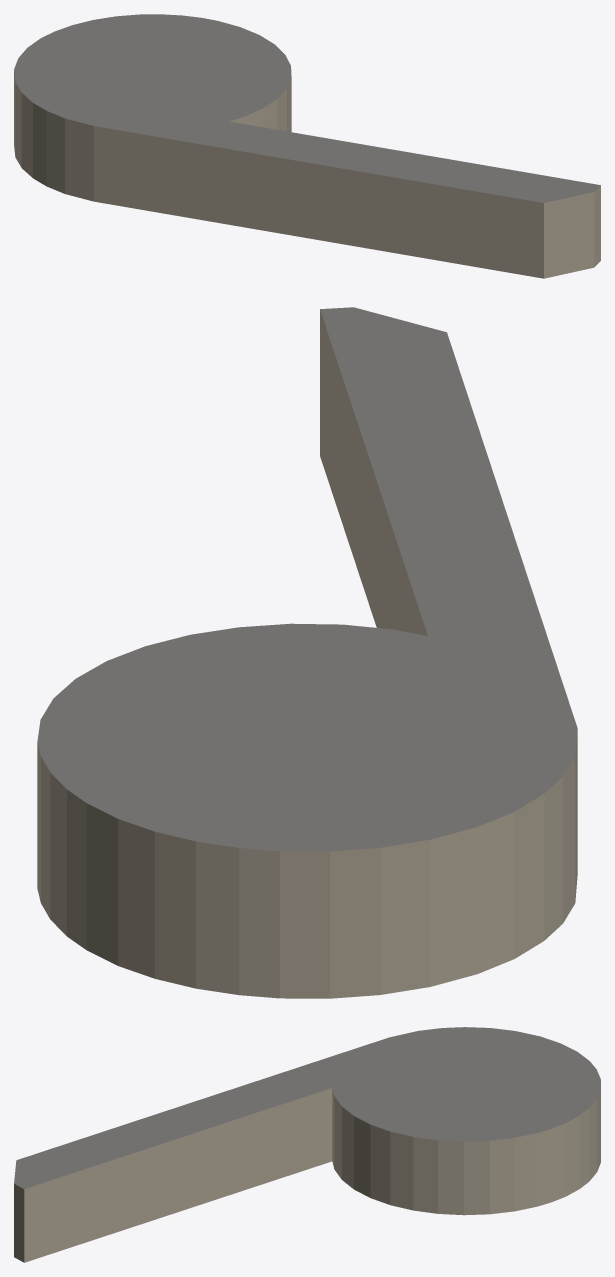
The model's file is buildings.glb.
3 renders of one model, top to bottom at view 1: azimuth 30°, elevation 25°; view 2: azimuth 150°, elevation 25°; view 3: azimuth 270°, elevation 25°, orthographic. The views are drawn at different scales.
Visible parts, largest first — view 1: T_W3_N0_buildings; view 2: T_W3_N0_buildings; view 3: T_W3_N0_buildings.
Boxes of the visible parts, x1,y1,x2,y2 form: T_W3_N0_buildings: (14,14,600,278); T_W3_N0_buildings: (37,307,577,998); T_W3_N0_buildings: (14,1027,600,1262).
Bounding box in the file's own units: 47.26 × 10 × 72.28.
